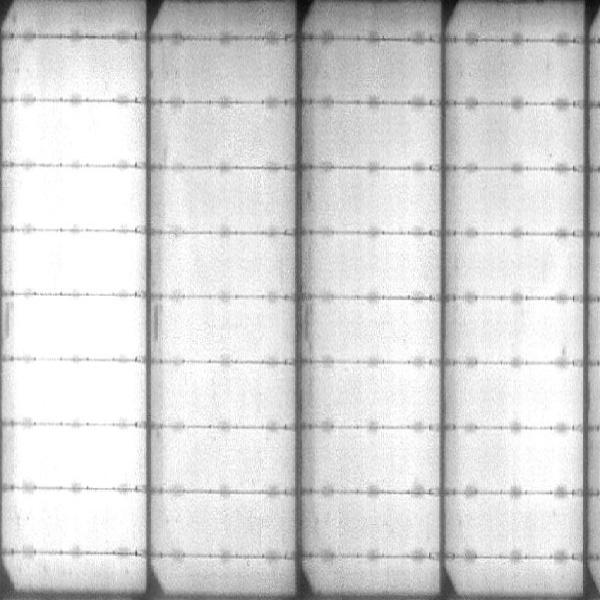hot_spot: (21, 234, 133, 292), (18, 430, 139, 482), (12, 496, 135, 546), (26, 170, 134, 224), (18, 302, 137, 349), (23, 114, 138, 162), (18, 371, 135, 418)
